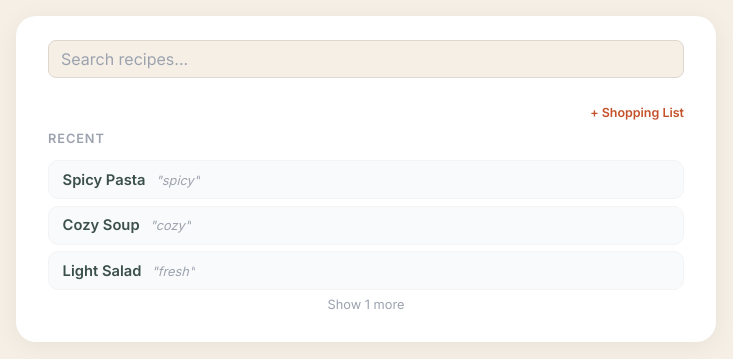
Test: RecipeHistory — search › shows no results message when search finds nothing
Type "zzz-no-match" into the field with placeholder "Search recipes..." at coordinates (366, 59), box [48, 40, 684, 78]
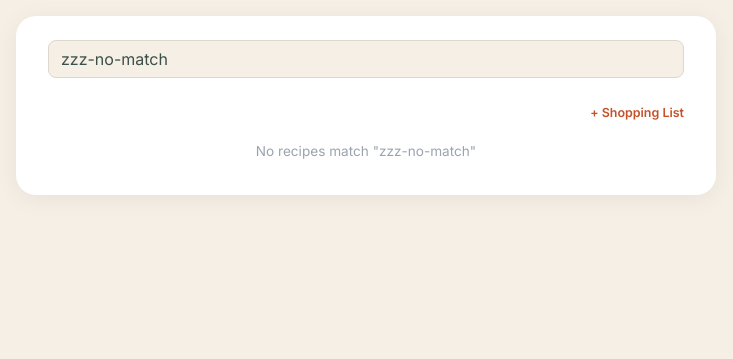
Expected: the text "No recipes match \"zzz-no-match\"" is shown, [256, 143, 476, 159]
